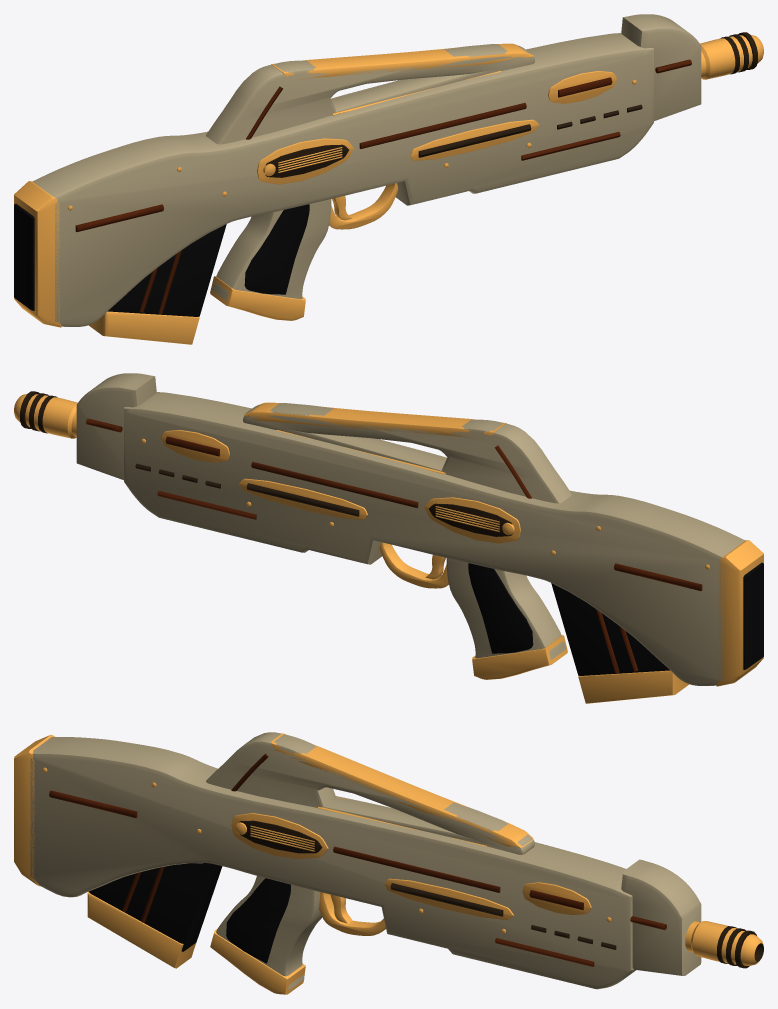
Rendered from raygun_automatic_rifle.obj.
3 renders of one model, top to bottom at view 1: azimuth 30°, elevation 25°; view 2: azimuth 150°, elevation 25°; view 3: azimuth 330°, elevation 25°, orthographic.
Visible parts, largest first — view 1: Body_|_stock,_receiver_and_forend, Carry_handle, Front_block_and_sight_fin, Magazine, Grip_|_ivory_frame, Butt_plate_|_gold, Carry_handle_|_gold_top_rail, Grip_|_right_rubber_panel, Magazine_|_gold_base_plate, Butt_plate_|_rubber_pad, Grip_|_gold_base, Slot_|_right_mid_gold_frame (+9 smaller); view 2: Body_|_stock,_receiver_and_forend, Carry_handle, Front_block_and_sight_fin, Magazine, Grip_|_ivory_frame, Butt_plate_|_gold, Carry_handle_|_gold_top_rail, Grip_|_left_rubber_panel, Magazine_|_gold_base_plate, Butt_plate_|_rubber_pad, Grip_|_gold_base, Slot_|_left_mid_gold_frame (+9 smaller); view 3: Body_|_stock,_receiver_and_forend, Carry_handle, Front_block_and_sight_fin, Magazine, Carry_handle_|_gold_top_rail, Grip_|_ivory_frame, Grip_|_right_rubber_panel, Magazine_|_gold_base_plate, Butt_plate_|_gold, Muzzle_|_gold_brake, Grip_|_gold_base, Slot_|_right_mid_gold_frame (+8 smaller).
Boxes of the visible parts, x1,y1,x2,y2 form: Body_|_stock,_receiver_and_forend: (33, 33, 653, 326); Carry_handle: (206, 44, 534, 144); Front_block_and_sight_fin: (621, 14, 701, 120); Magazine: (107, 224, 226, 316); Grip_|_ivory_frame: (211, 199, 331, 300); Butt_plate_|_gold: (14, 181, 61, 327); Carry_handle_|_gold_top_rail: (271, 43, 533, 79); Grip_|_right_rubber_panel: (244, 204, 309, 294); Magazine_|_gold_base_plate: (88, 311, 199, 344); Butt_plate_|_rubber_pad: (14, 203, 34, 310); Grip_|_gold_base: (210, 276, 305, 320); Slot_|_right_mid_gold_frame: (410, 119, 539, 160); Body_|_stock,_receiver_and_forend: (124, 392, 744, 685); Carry_handle: (243, 403, 571, 503); Front_block_and_sight_fin: (76, 373, 156, 479); Magazine: (551, 583, 670, 675); Grip_|_ivory_frame: (446, 558, 566, 659); Butt_plate_|_gold: (716, 540, 763, 686); Carry_handle_|_gold_top_rail: (244, 402, 506, 437); Grip_|_left_rubber_panel: (468, 563, 533, 653); Magazine_|_gold_base_plate: (578, 670, 689, 703); Butt_plate_|_rubber_pad: (743, 562, 763, 669); Grip_|_gold_base: (472, 635, 567, 679); Slot_|_left_mid_gold_frame: (238, 478, 367, 519); Body_|_stock,_receiver_and_forend: (30, 737, 635, 989); Carry_handle: (206, 732, 534, 854); Front_block_and_sight_fin: (621, 859, 701, 975); Magazine: (89, 863, 222, 951); Carry_handle_|_gold_top_rail: (271, 733, 533, 847); Grip_|_ivory_frame: (216, 876, 322, 989); Grip_|_right_rubber_panel: (226, 878, 290, 963); Magazine_|_gold_base_plate: (87, 892, 195, 968); Butt_plate_|_gold: (14, 735, 54, 886); Muzzle_|_gold_brake: (685, 921, 763, 965); Grip_|_gold_base: (210, 928, 305, 994); Slot_|_right_mid_gold_frame: (384, 878, 513, 919).
Bounding box in the file's own units: 0.8539 × 0.2752 × 0.0628.
